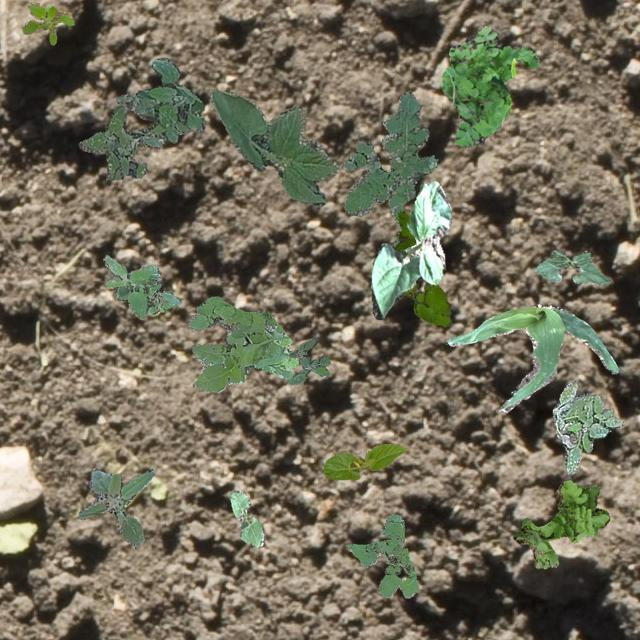crop: (446, 304, 618, 412), (208, 89, 338, 204), (369, 180, 452, 318), (322, 442, 407, 478), (534, 250, 610, 284), (228, 490, 262, 546)
weed: (342, 90, 438, 246), (440, 24, 538, 146), (188, 296, 298, 392), (114, 56, 204, 156), (512, 478, 608, 568), (394, 210, 451, 326), (552, 380, 622, 472), (343, 514, 418, 596), (76, 468, 154, 546), (77, 104, 146, 178), (102, 254, 180, 318), (22, 1, 72, 44), (286, 336, 330, 384)
